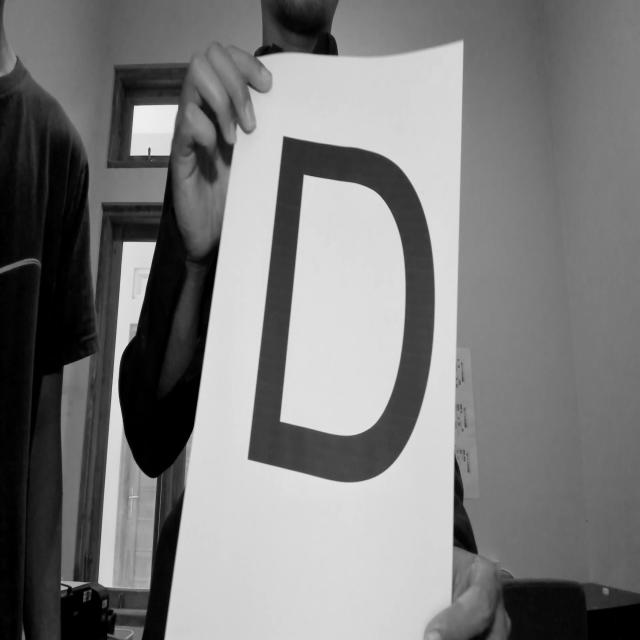d: (238, 108, 444, 528)
